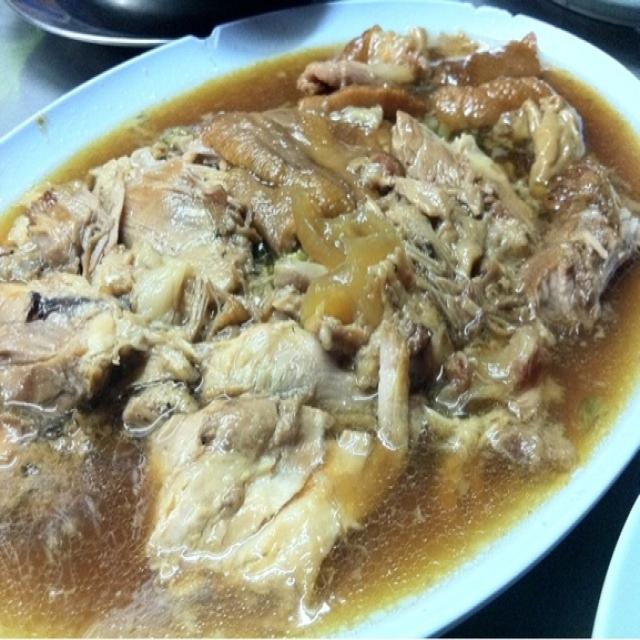猪肉菜式: (21, 21, 616, 607)
